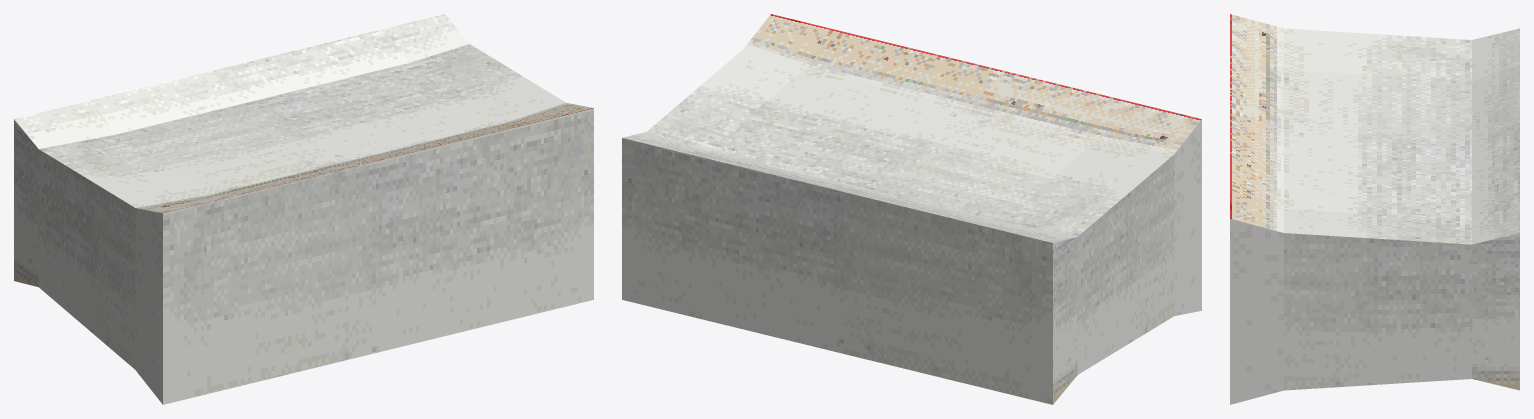
File: Road_Blocks_-_White.glb
3 views of the same model, side by side, from view 1: azimuth 30°, elevation 25°; view 2: azimuth 150°, elevation 25°; view 3: azimuth 270°, elevation 25° (orthographic). The views are drawn at different scales.
Parts seen in each view (by area): view 1: Road Blocks - White; view 2: Road Blocks - White; view 3: Road Blocks - White.
Boxes of the visible parts, x1=… form: Road Blocks - White: x1=14, y1=14, x2=593, y2=404; Road Blocks - White: x1=622, y1=14, x2=1201, y2=404; Road Blocks - White: x1=1230, y1=14, x2=1519, y2=404.
Bounding box in the file's own units: 0.462 × 0.1963 × 0.2766.
1 material, 1 textured.
